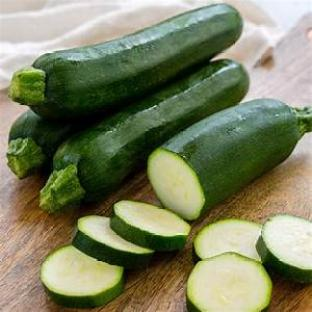Zucchini: (41, 61, 248, 212), (10, 5, 242, 118), (148, 99, 311, 220), (41, 246, 123, 307), (7, 111, 81, 178), (188, 253, 272, 311), (72, 216, 153, 268), (111, 200, 190, 250), (256, 215, 311, 282), (194, 219, 262, 261)
